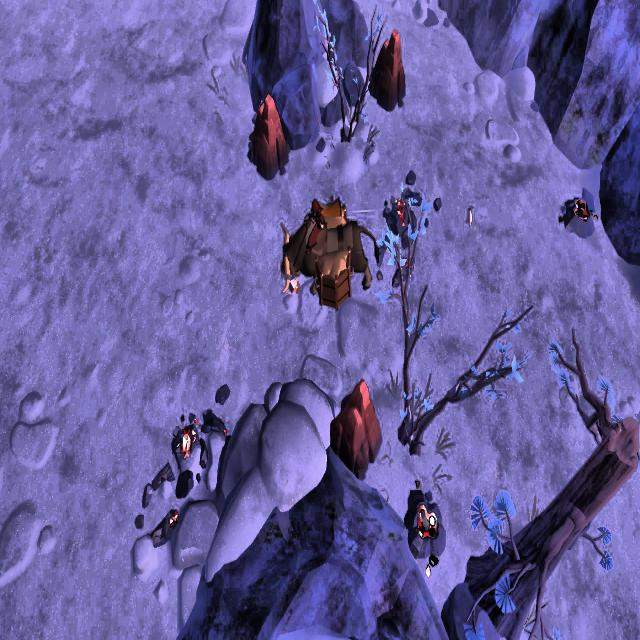rock_t5: (326, 380, 383, 479), (248, 95, 288, 186), (370, 24, 410, 112)
